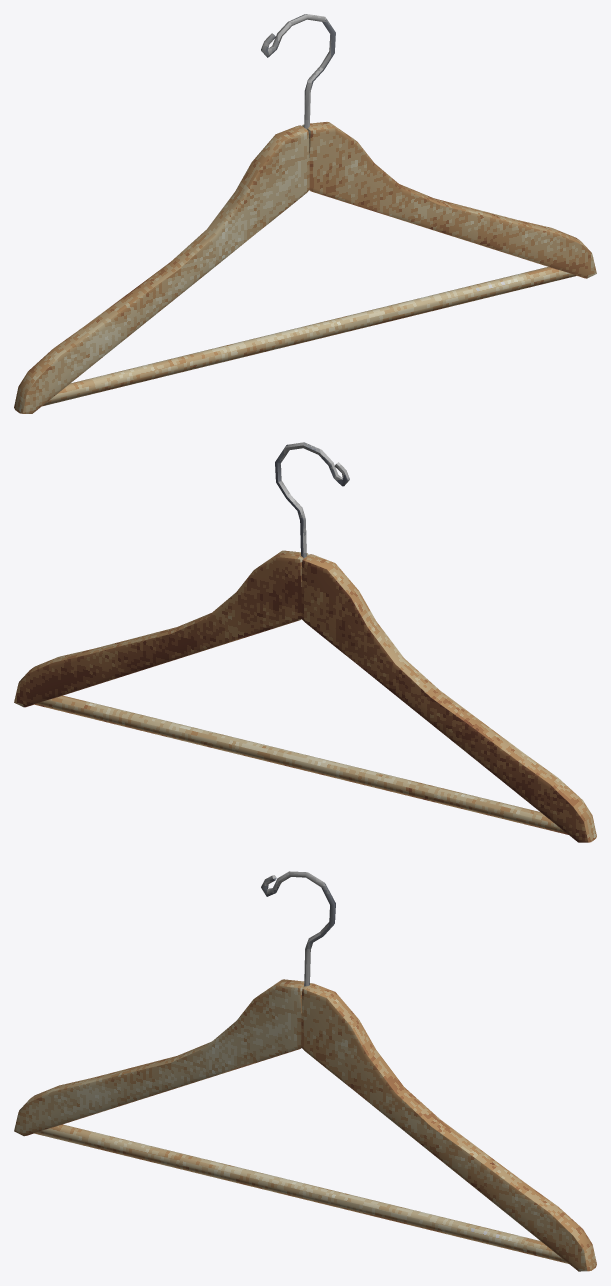
The model's file is hanger_wood.glb.
The picture shows the model from 3 angles, top to bottom: view 1: azimuth 30°, elevation 25°; view 2: azimuth 150°, elevation 25°; view 3: azimuth 330°, elevation 25°; orthographic projection.
Visible parts, largest first — view 1: mesh; view 2: mesh; view 3: mesh.
Boxes of the visible parts, x1,y1,x2,y2 form: mesh: (14, 14, 596, 413); mesh: (14, 442, 596, 842); mesh: (14, 871, 596, 1271).
Bounding box in the file's own units: 0.4564 × 0.25 × 0.0135.
Materials: 1 (1 with a texture image).
